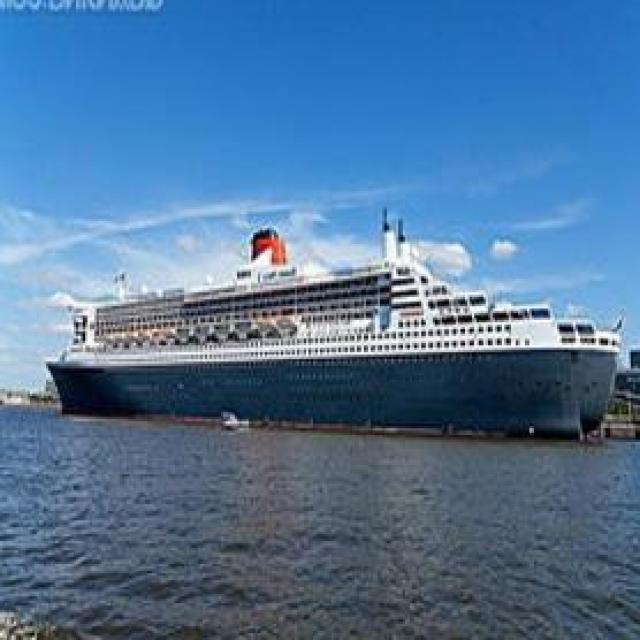passenger ship: (49, 179, 631, 450)
